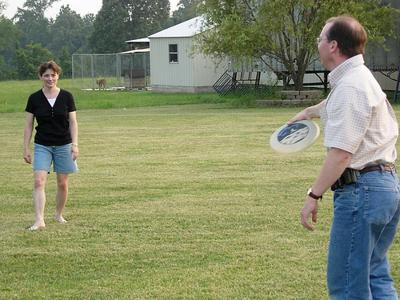person: (287, 16, 400, 300)
